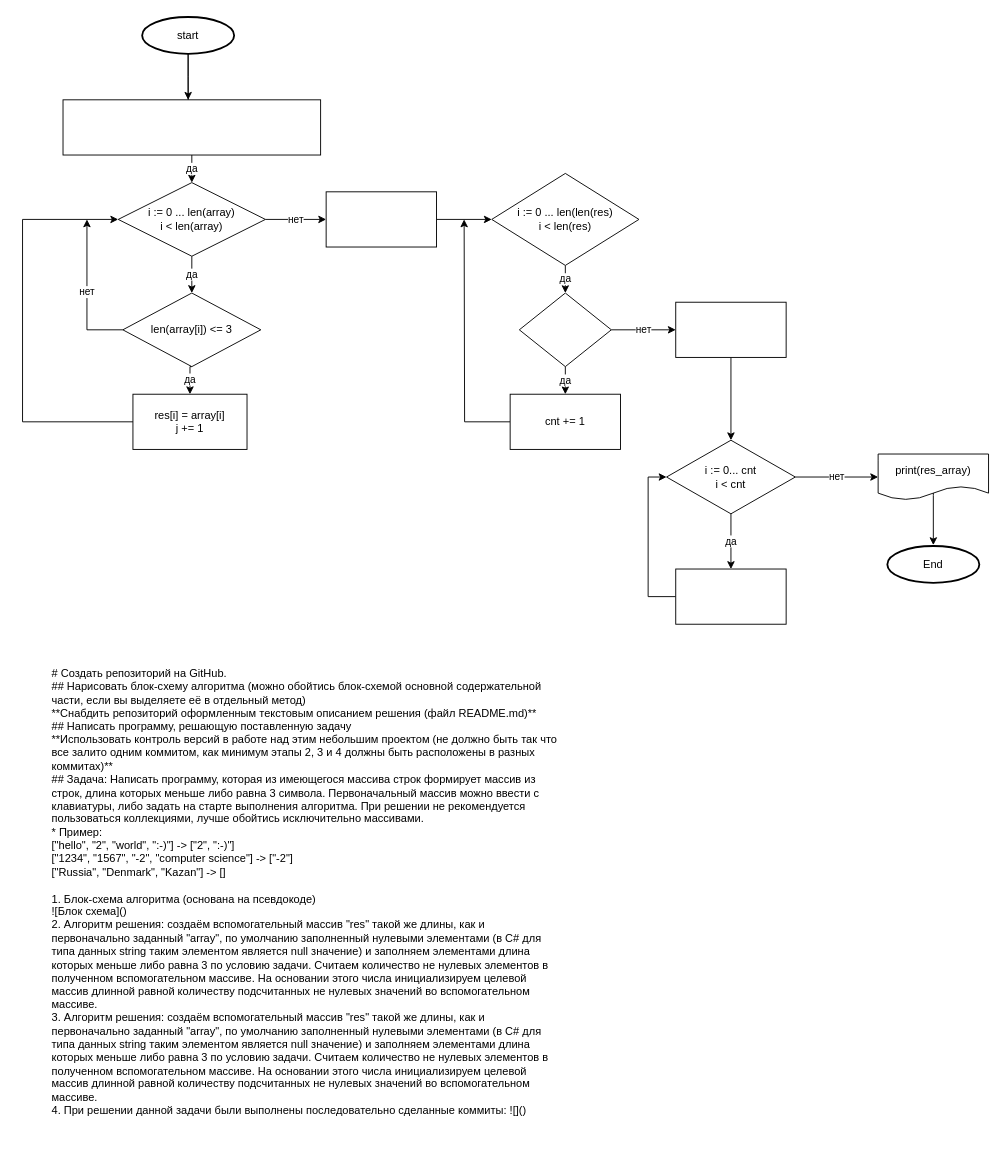
Some shapes in this 1005 by 1164 pixel diagram are drawn without their labels. The shapes that lost their labels are listed below. From the top down, each one's centre as x and y in pixels, then its label:
(191,127): array = [" hello " , " 2 " , "word" , ":-*"]
(381,219): cnt = 0
(564,329): res[i] i = 0
(730,329): res_array = [0] * cnt
(730,596): res_array[i] = res[i]
